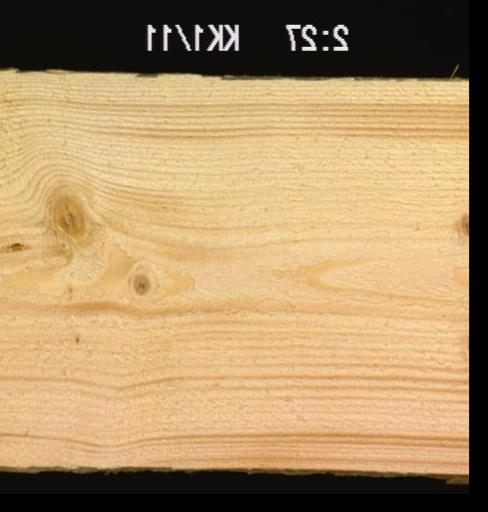sound_knot: (46, 190, 90, 237), (128, 264, 153, 298), (454, 207, 467, 236)
